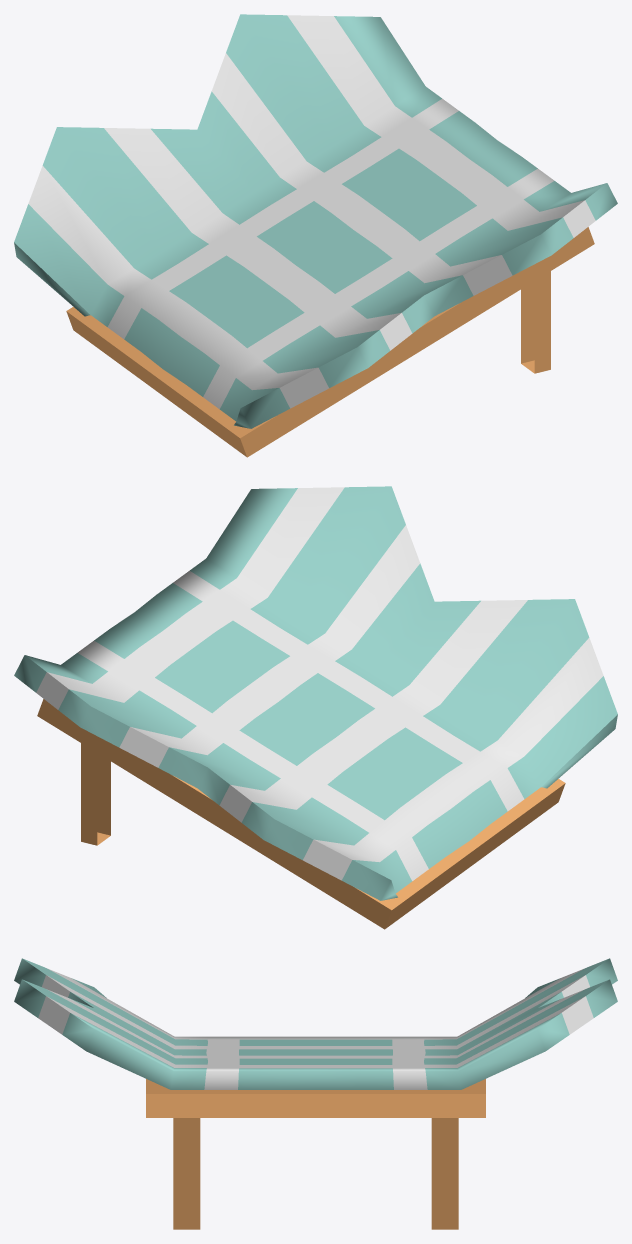
The model's file is prop_solar_panel.fbx.
3 renders of one model, top to bottom at view 1: azimuth 30°, elevation 25°; view 2: azimuth 150°, elevation 25°; view 3: azimuth 270°, elevation 25°, orthographic. The views are drawn at different scales.
Visible parts, largest first — view 1: solar_panel; view 2: solar_panel; view 3: solar_panel.
Part boxes in pixels (bbox=[...]): solar_panel: bbox=[14, 14, 617, 457]; solar_panel: bbox=[14, 486, 617, 929]; solar_panel: bbox=[14, 958, 617, 1229].
Size of the model in its own units: 23.34 by 12.5 by 32.8.
